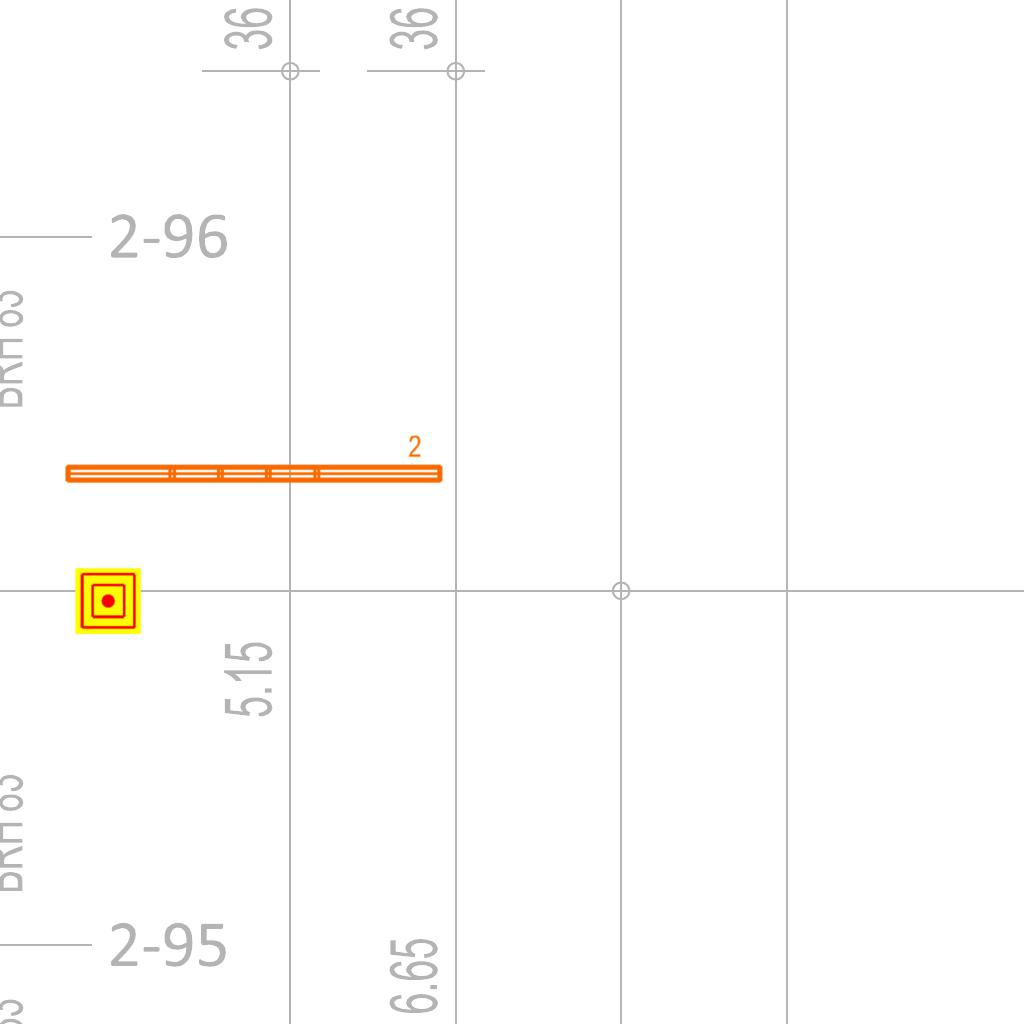Ambulanz_Pendelleuchte_LED: (60, 433, 447, 489)
NAM-Nichtautomatischer_Melder: (75, 568, 141, 634)
